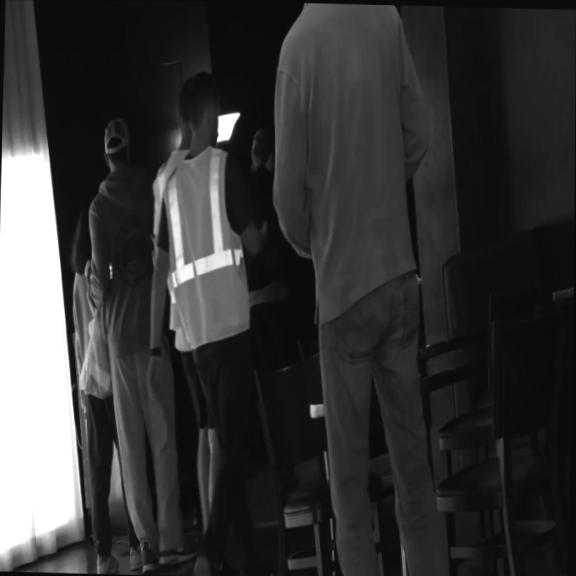safety_vest: (159, 144, 254, 354), (147, 141, 191, 331)
